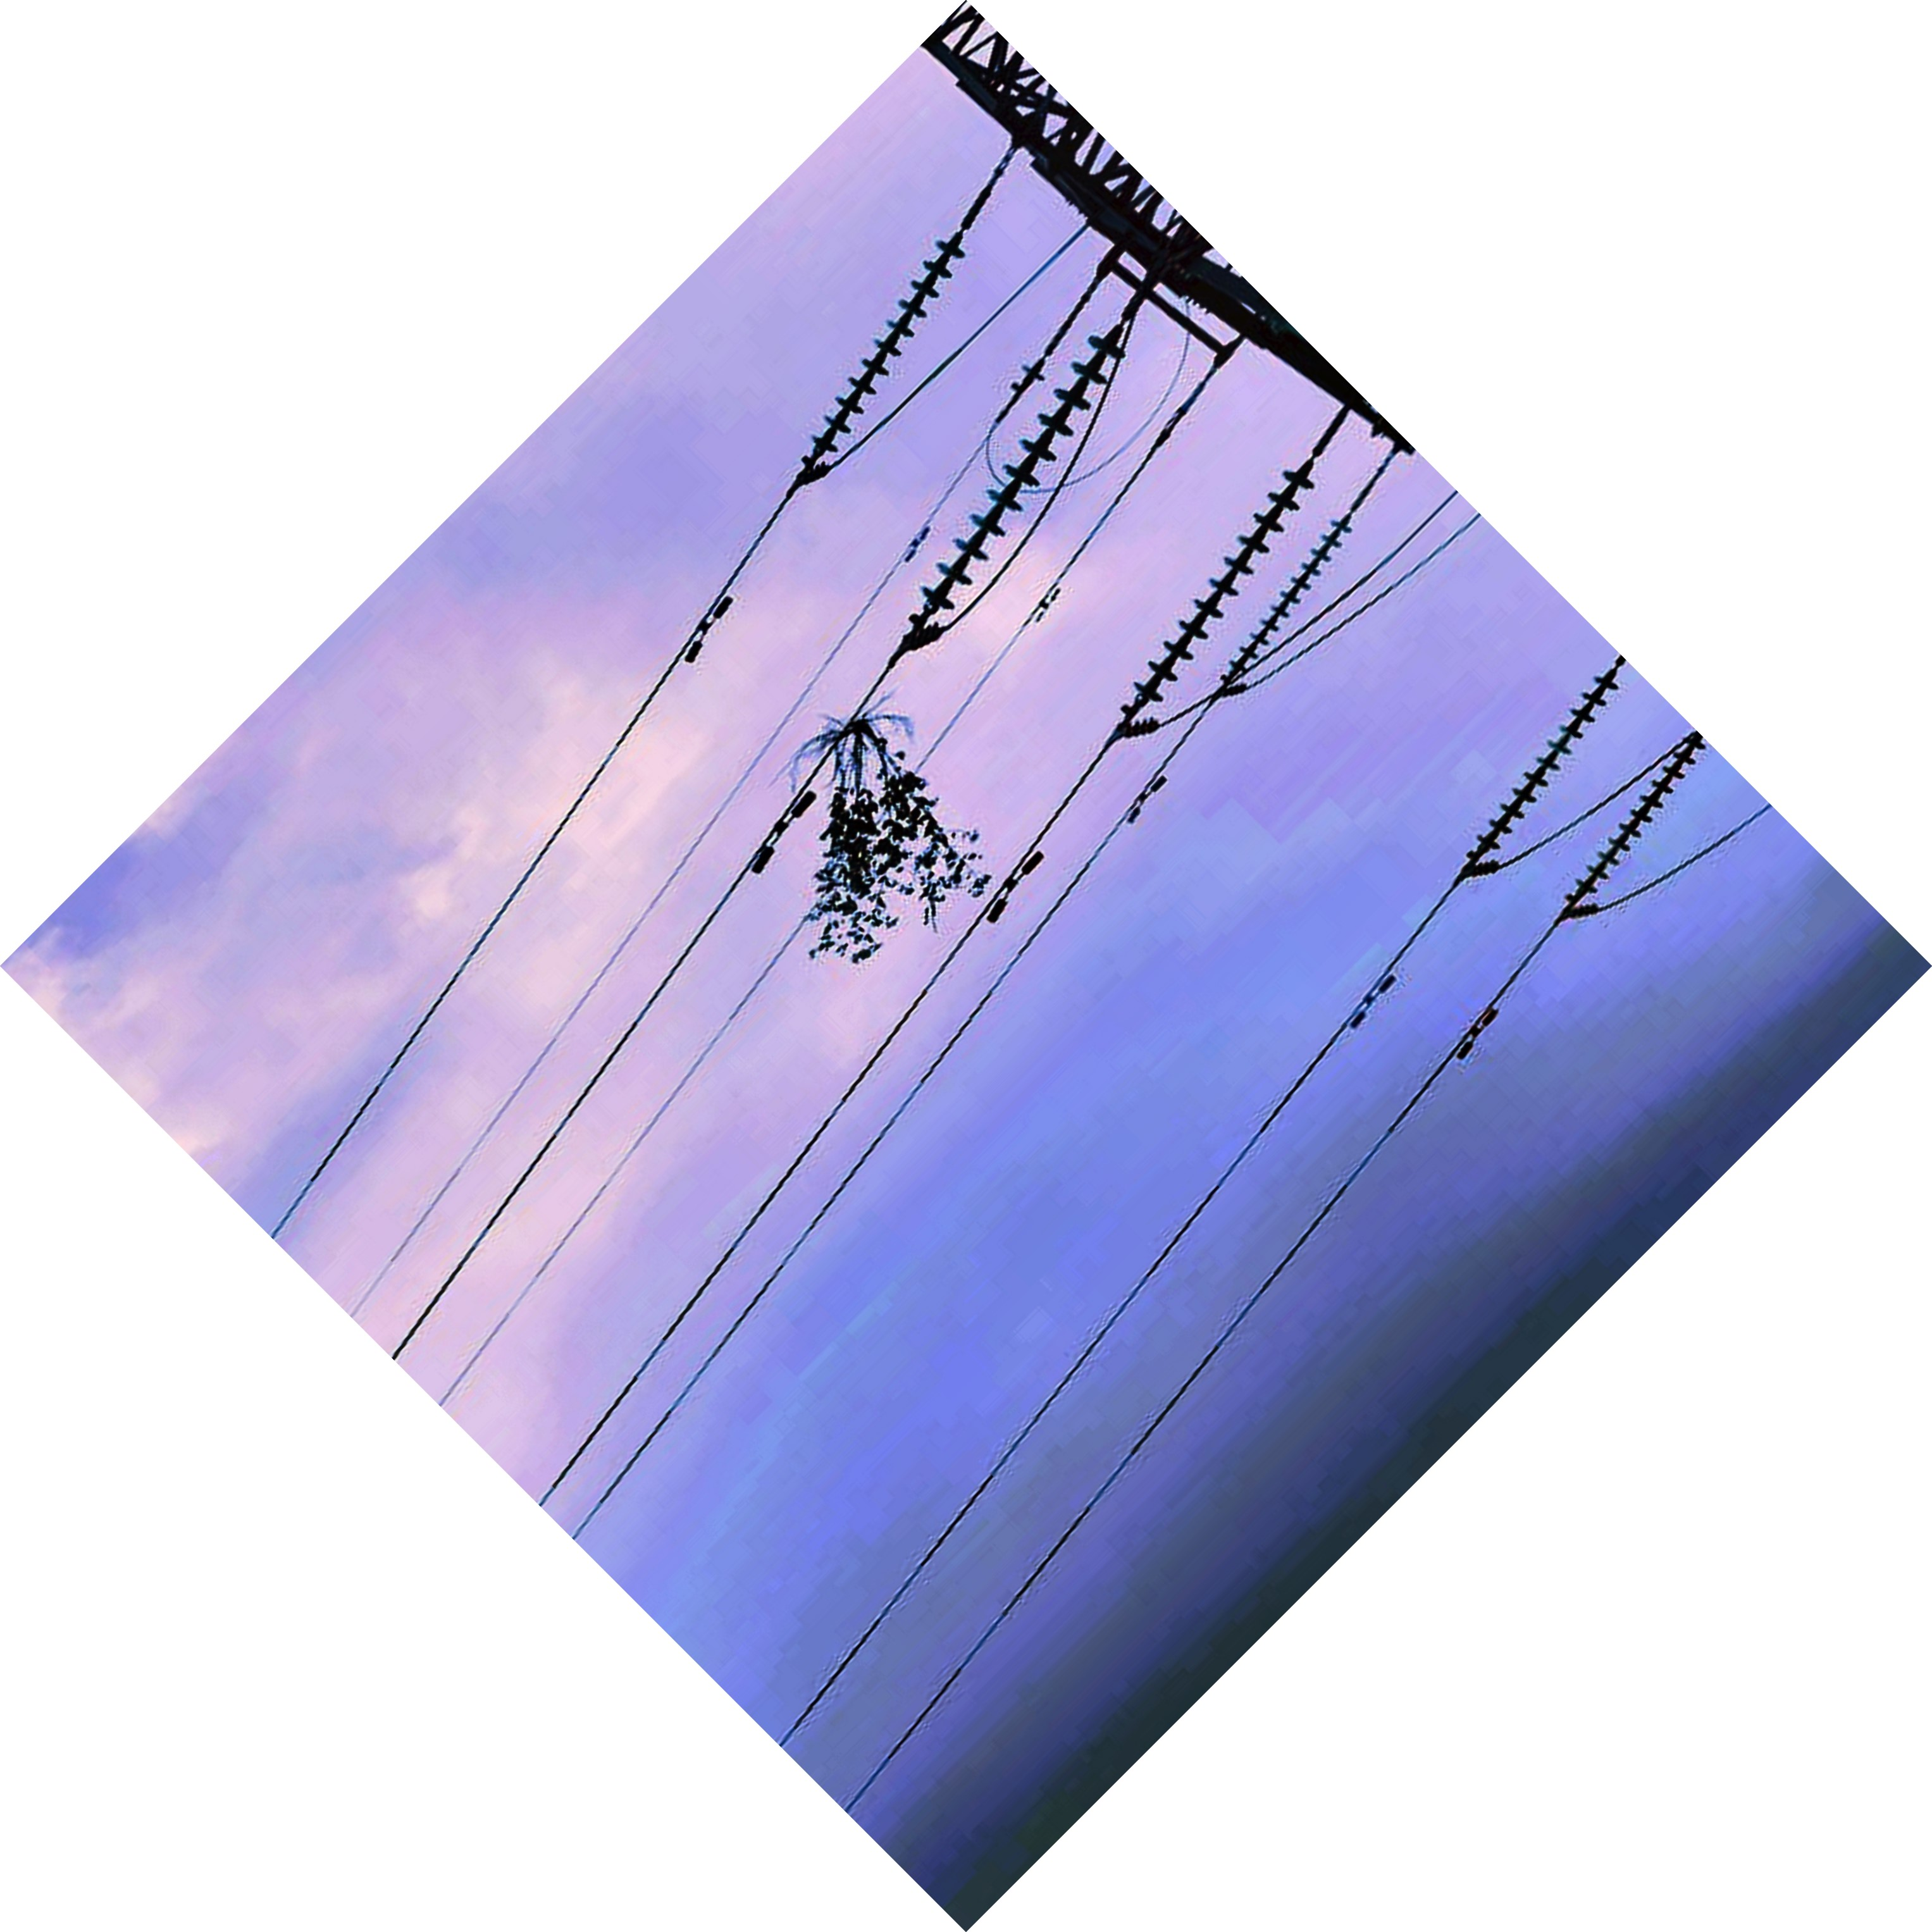wire foreign body: (787, 694, 1008, 991)
